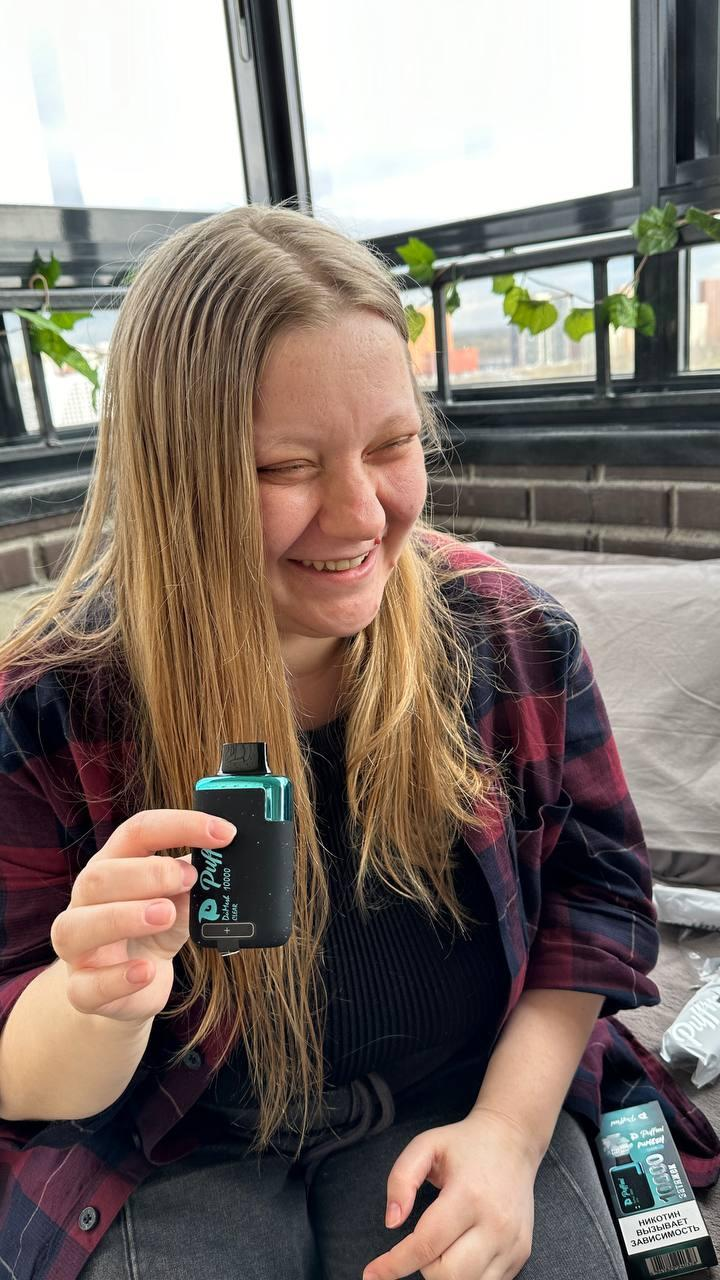Vape: (190, 743, 294, 950)
